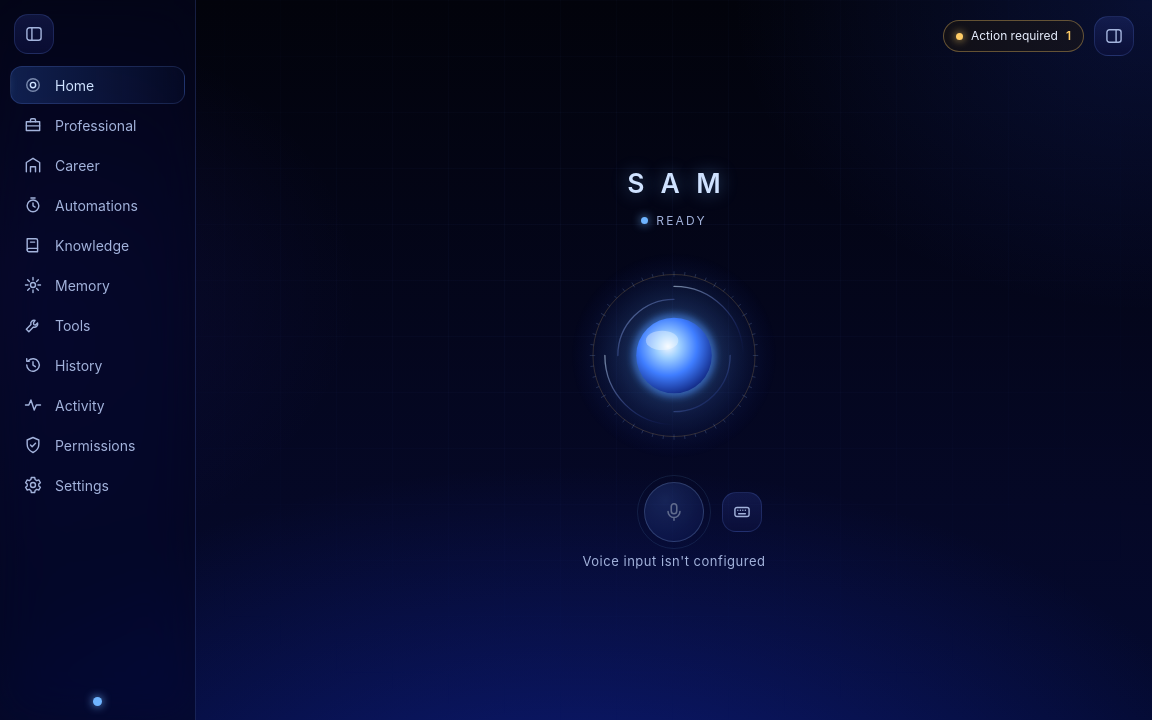
it: system health › explains a blocked start with reviewed text only
The image size is (1152, 720).
Expected: the message named "Connection:" is shown, [93, 697, 102, 706]
Click the button named "Show system panel".
click(1114, 36)  # box [1094, 16, 1134, 56]
(page scrolled)
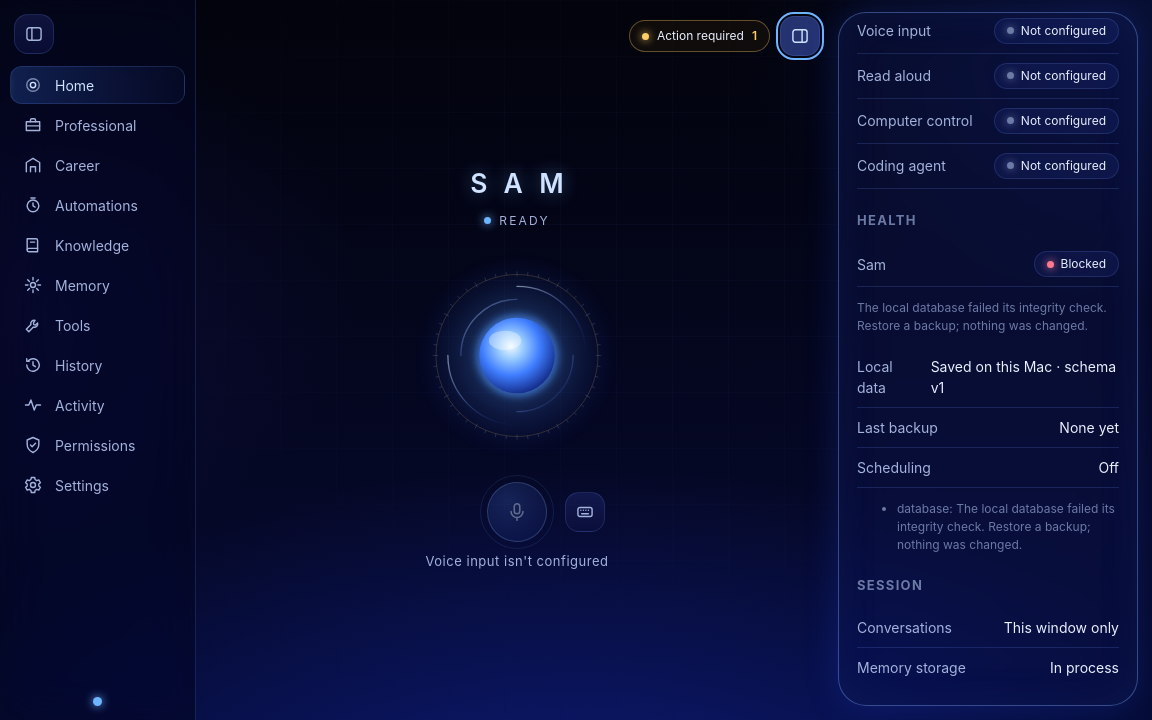
Now the text "Blocked" is shown, box [1060, 255, 1106, 273]
Now the text "failed its integrity check" is shown, box [857, 300, 1107, 333]
Now the text "None yet" is shown, box [1059, 417, 1119, 438]
